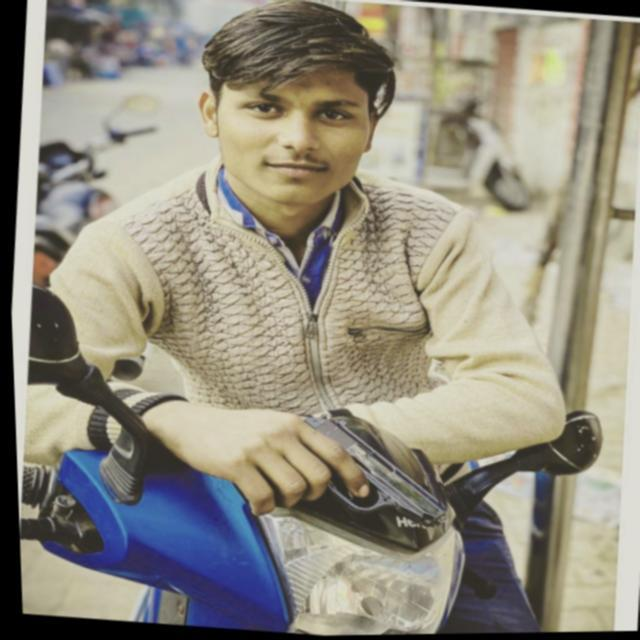weapon: (217, 398, 457, 544)
